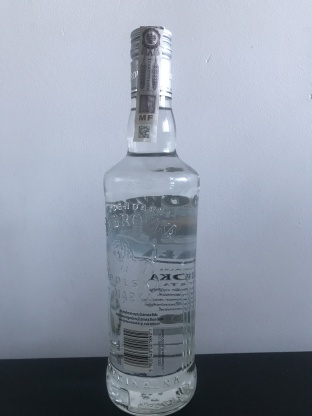nakretka: (128, 22, 174, 104)
